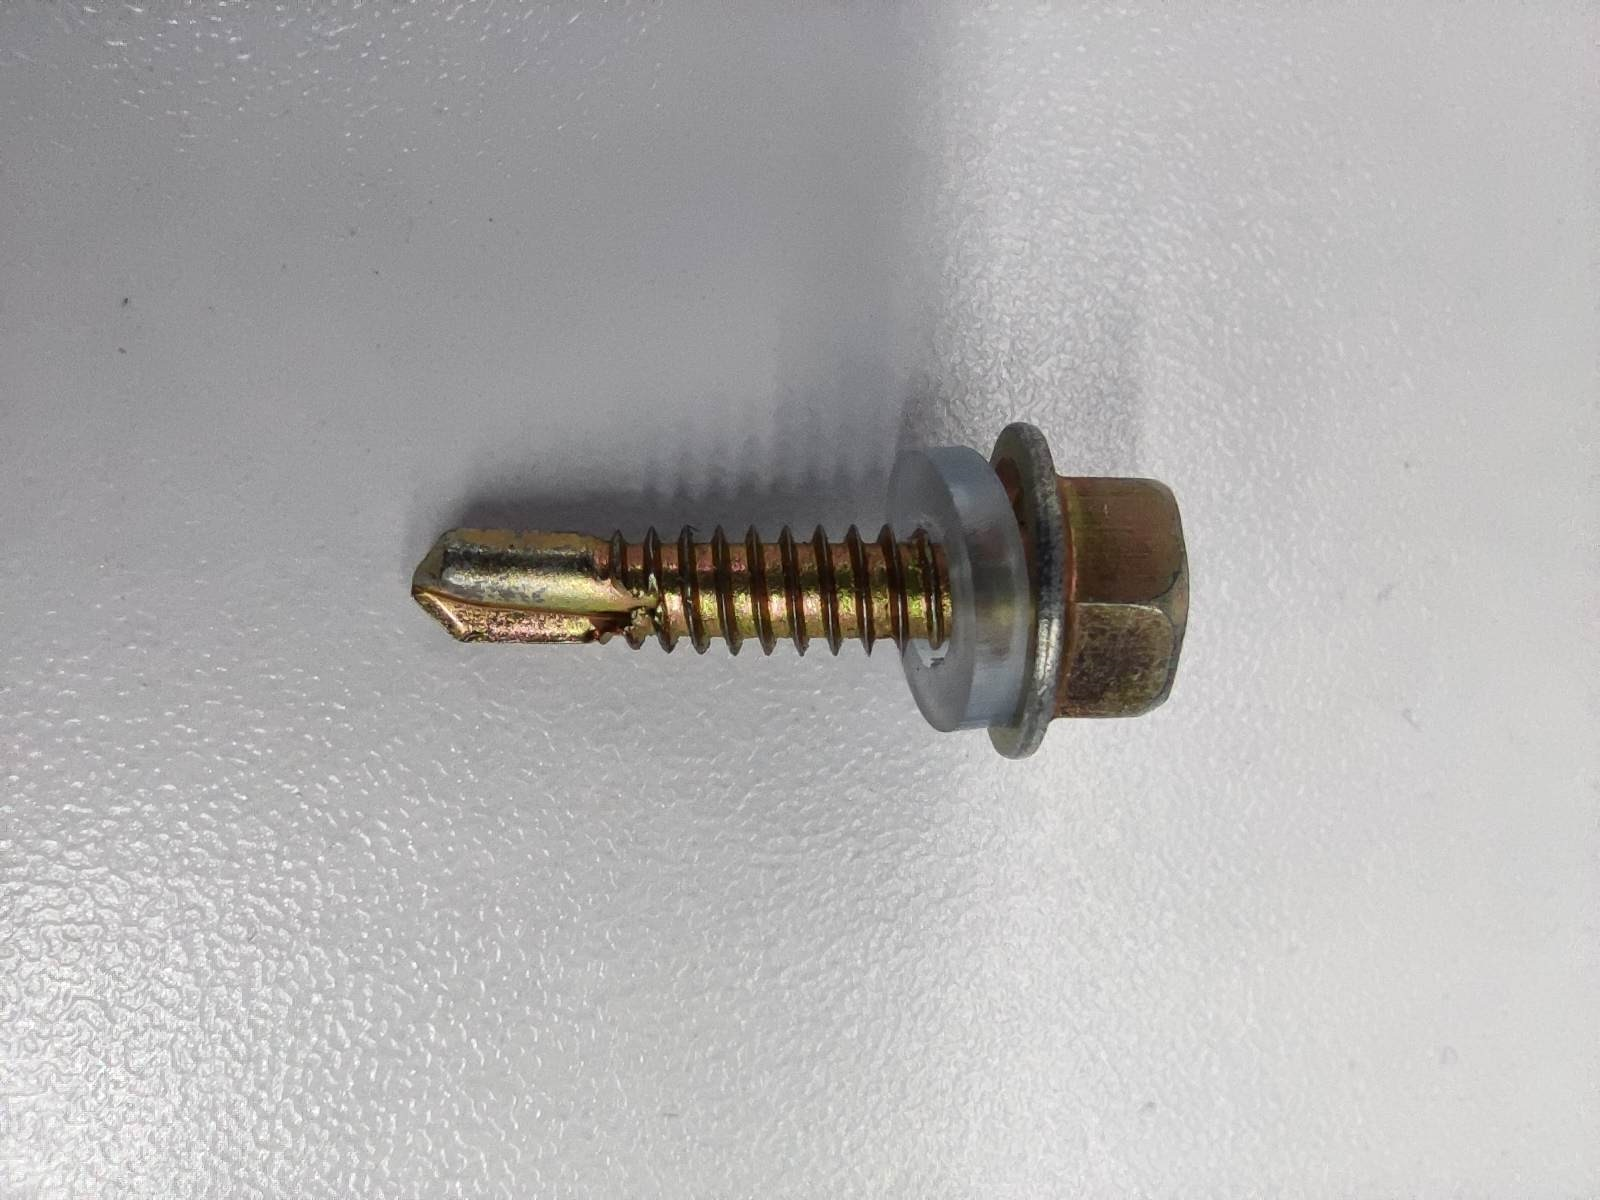燕尾自攻螺丝: (412, 422, 1191, 761)
